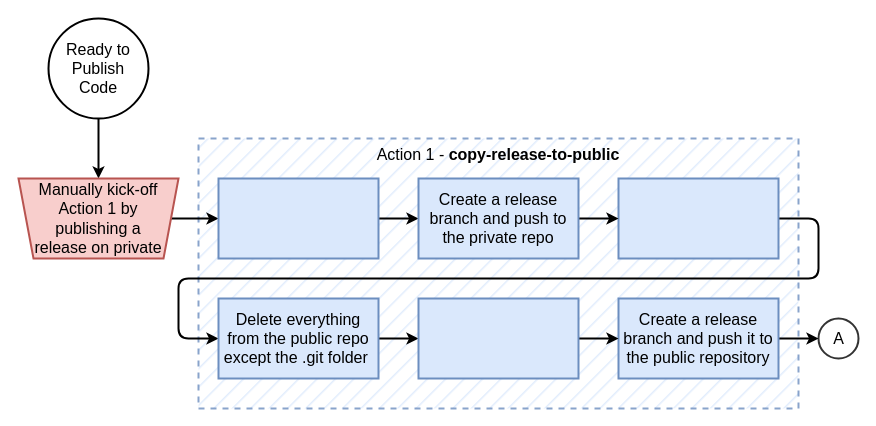
The diagram is 876 pixels wide and 426 high, and some of its shapes have lost their labels. Each missing label, with the box of its shape:
Checkout private RAP_CoP_dev repository: (217, 177, 379, 259)
Checkout the public rap-community-of-practice: (617, 177, 779, 259)
Copy conents of the private repositoy to the public repository: (417, 297, 579, 379)
